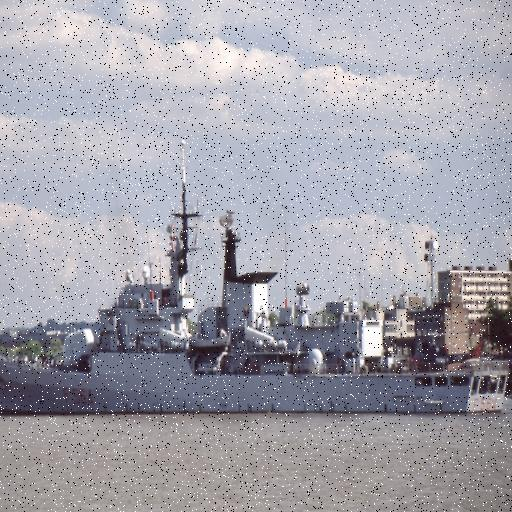Fragata: (1, 135, 512, 421)
